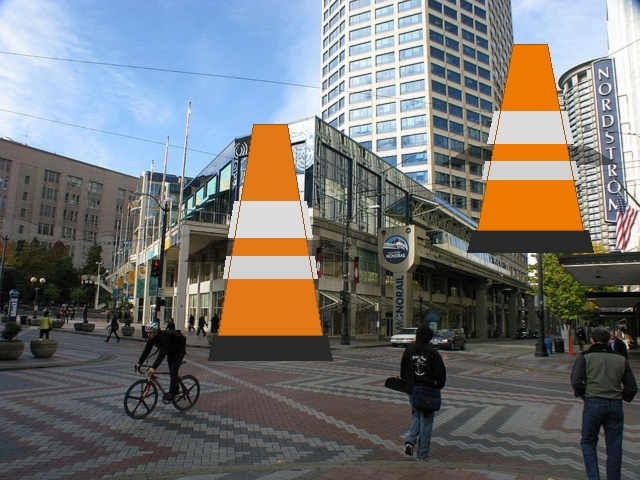traffic-cone: (208, 124, 332, 360), (467, 44, 593, 252)
